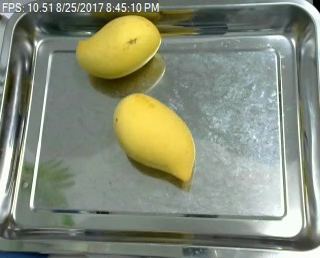Mango: (108, 91, 203, 182), (72, 13, 164, 79)
